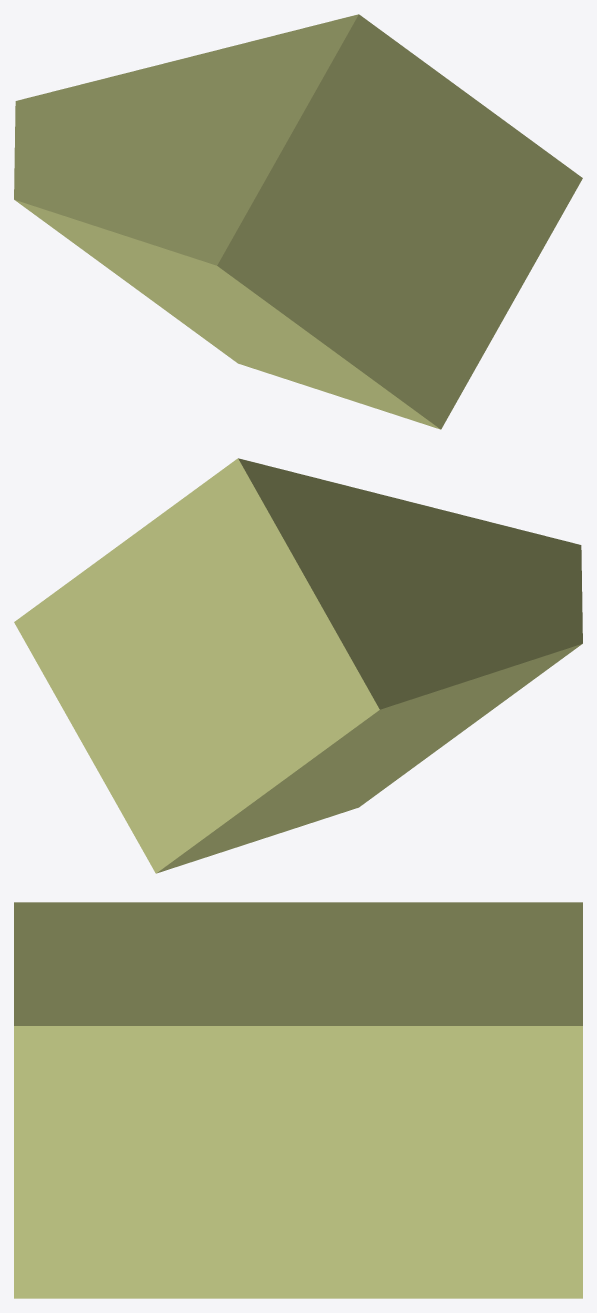
The picture shows the model from 3 angles, top to bottom: view 1: azimuth 30°, elevation 25°; view 2: azimuth 150°, elevation 25°; view 3: azimuth 270°, elevation 25°; orthographic projection. The views are drawn at different scales.
Visible parts, largest first — view 1: 0_0_2_0_1_1_0_2_1_1; view 2: 0_0_2_0_1_1_0_2_1_1; view 3: 0_0_2_0_1_1_0_2_1_1.
Boxes of the visible parts, x1=… form: 0_0_2_0_1_1_0_2_1_1: x1=14, y1=14, x2=582, y2=429; 0_0_2_0_1_1_0_2_1_1: x1=14, y1=458, x2=582, y2=873; 0_0_2_0_1_1_0_2_1_1: x1=14, y1=902, x2=582, y2=1298.
Bounding box in the file's own units: 8 × 4.81 × 9.
